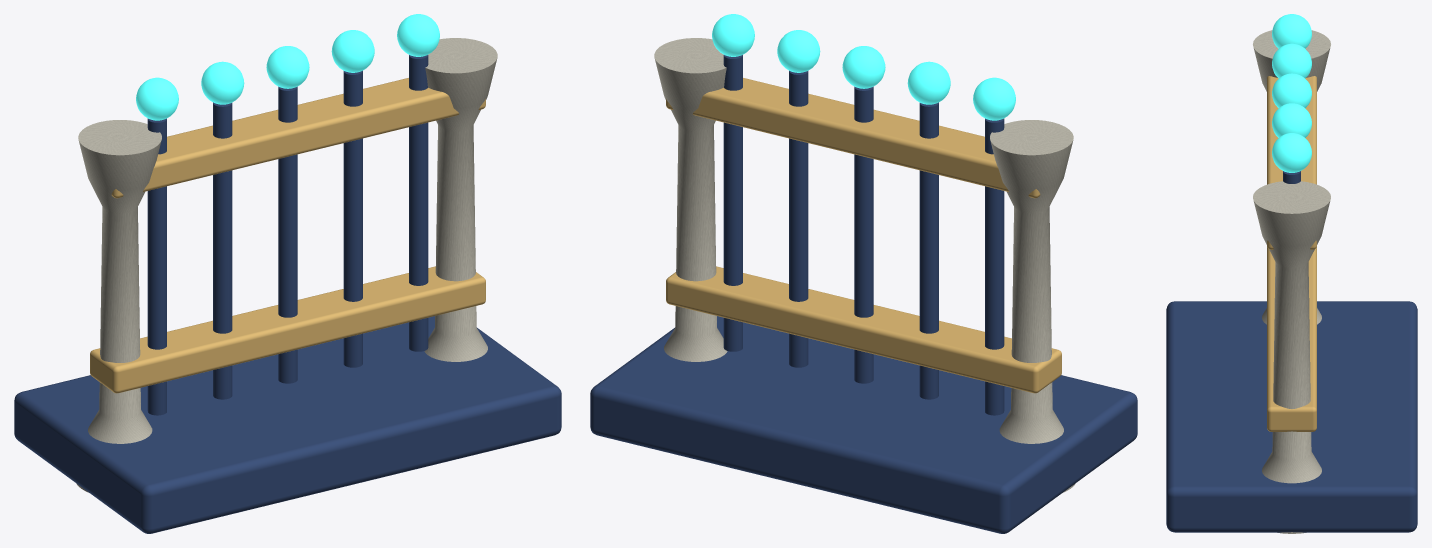
Rendered from arcane-academy-and-spell-trials-wand-rack-0ce8922f__28307.glb.
The picture shows the model from 3 angles, left to right: view 1: azimuth 30°, elevation 25°; view 2: azimuth 150°, elevation 25°; view 3: azimuth 270°, elevation 25°; orthographic projection. The views are drawn at different scales.
Visible parts, largest first — view 1: wand-rack; view 2: wand-rack; view 3: wand-rack.
Part boxes in pixels (bbox=[...]): wand-rack: bbox=[14, 14, 561, 533]; wand-rack: bbox=[590, 14, 1137, 533]; wand-rack: bbox=[1166, 14, 1417, 533].
Bounding box in the file's own units: 0.9 × 0.8 × 0.5001.
Materials: 4 (1 with a texture image).
